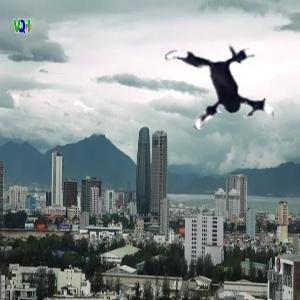drone: (146, 23, 289, 166)
